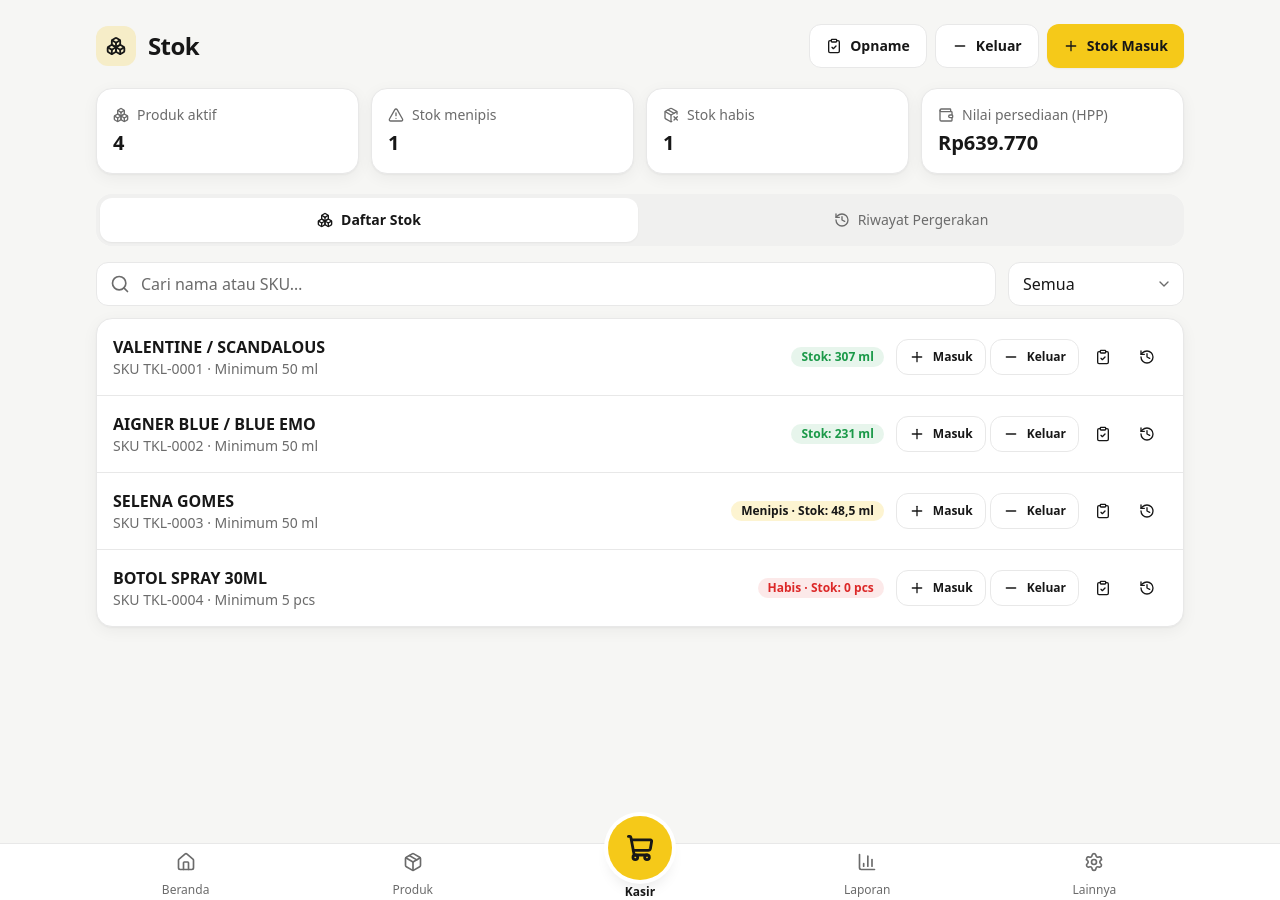
Test: Halaman Stok › stok masuk 100,5 ml: pratinjau 307 → 407,5 ml, tersimpan dengan idempotency key, stok diperbarui
Expected: the tab "Daftar Stok" is shown, x1=100 y1=198 x2=638 y2=242
Click the button with aria-label "Stok masuk VALENTINE / SCANDALOUS".
click(941, 357)  # box x1=896 y1=339 x2=986 y2=375
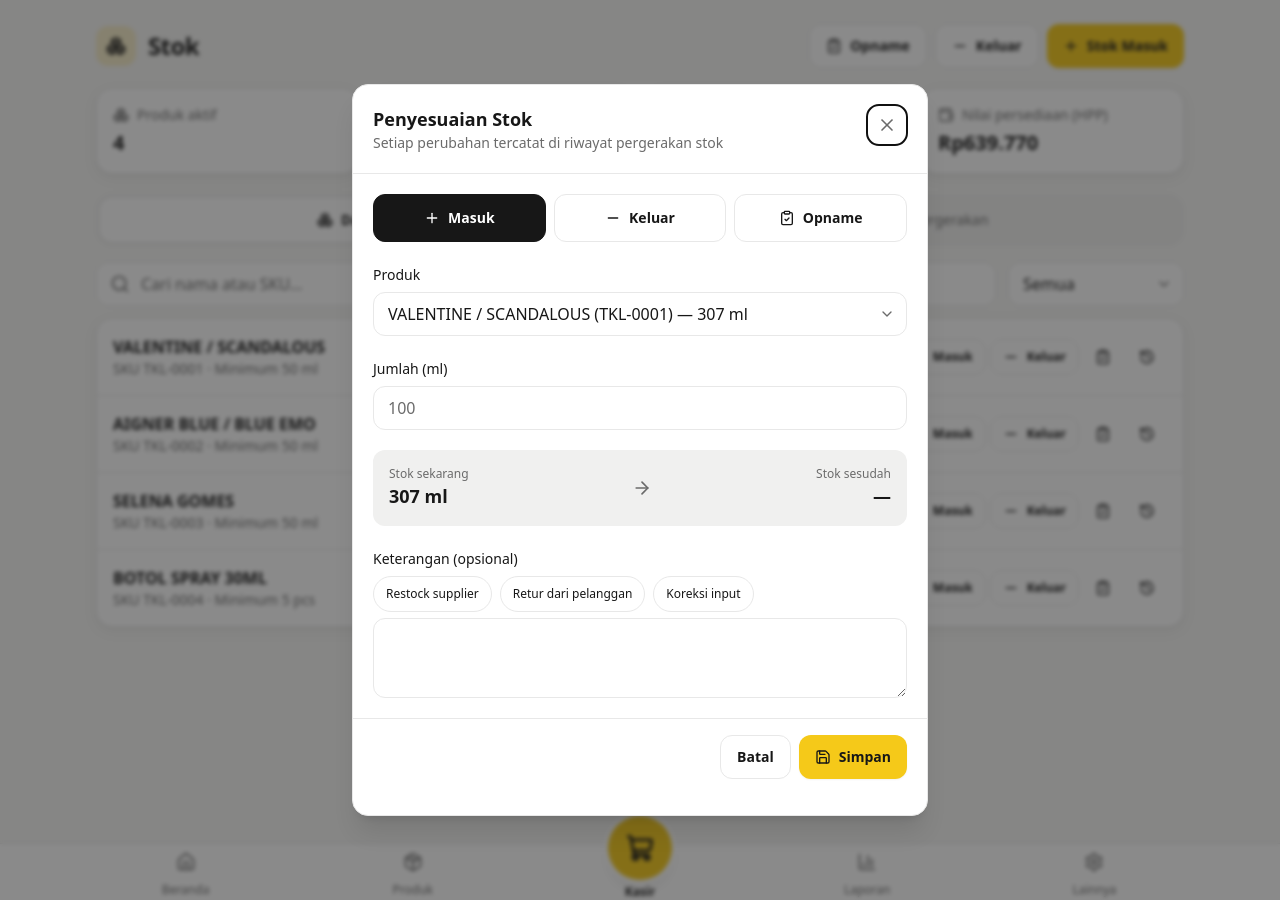
Type "100,5" into the field labelled "Jumlah (ml)".
click(640, 408); type("100,5")  # box x1=373 y1=386 x2=907 y2=430
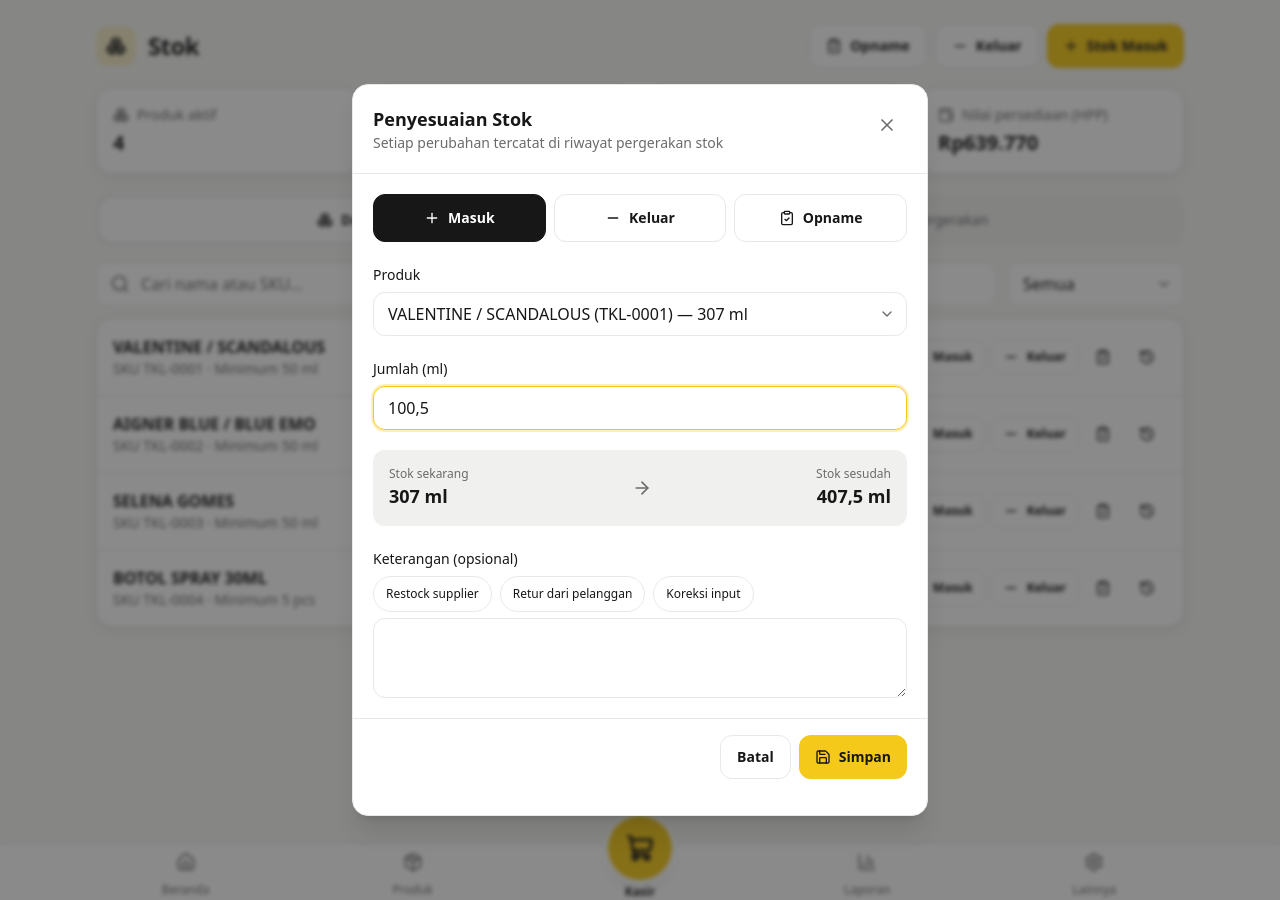
Expected: the text with test id "stock-after" reads "407,5 ml", x1=817 y1=484 x2=891 y2=508
Click the button "Restock supplier".
click(432, 594)  # box x1=373 y1=576 x2=492 y2=612
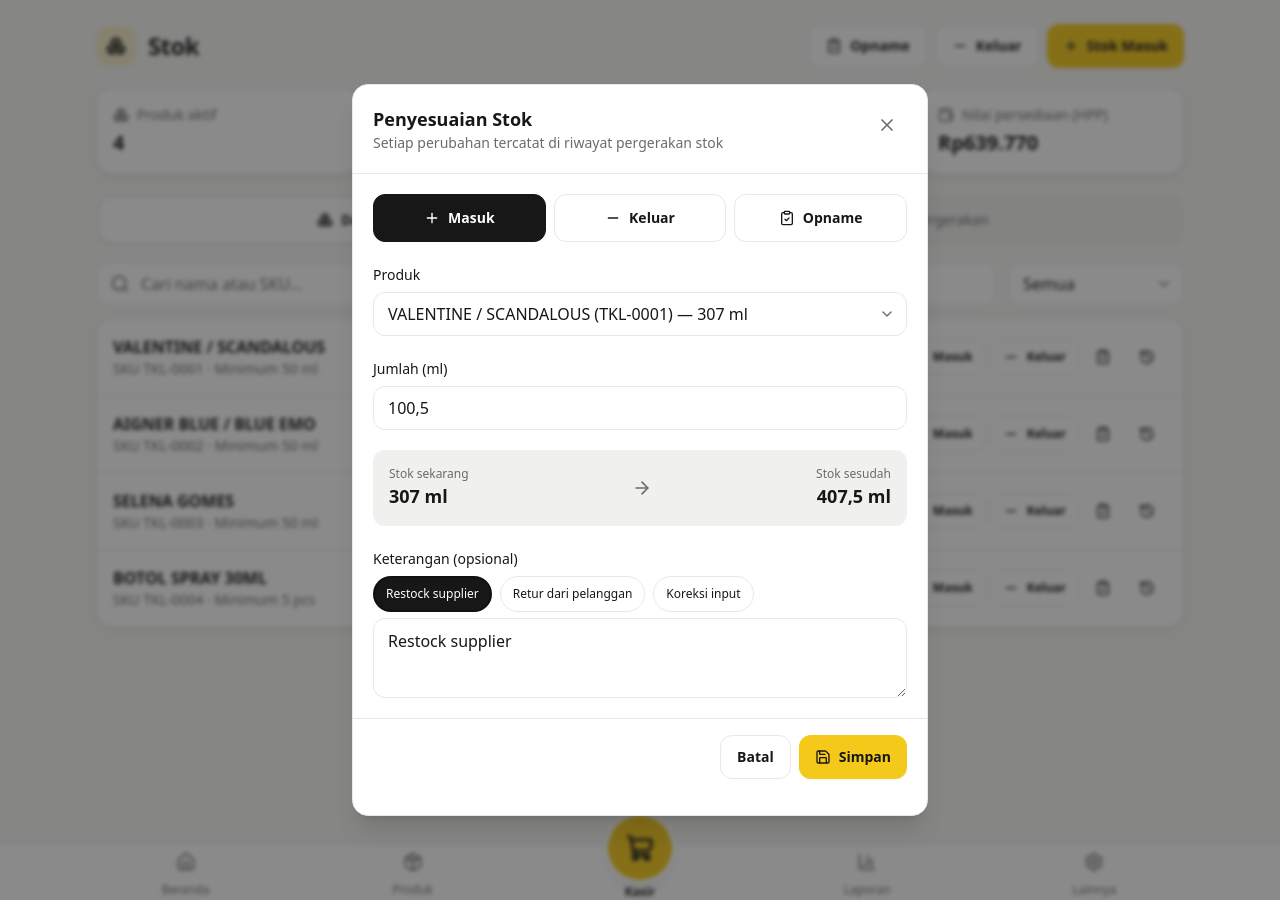
Click the button "Simpan".
click(853, 757)  # box x1=799 y1=735 x2=907 y2=779
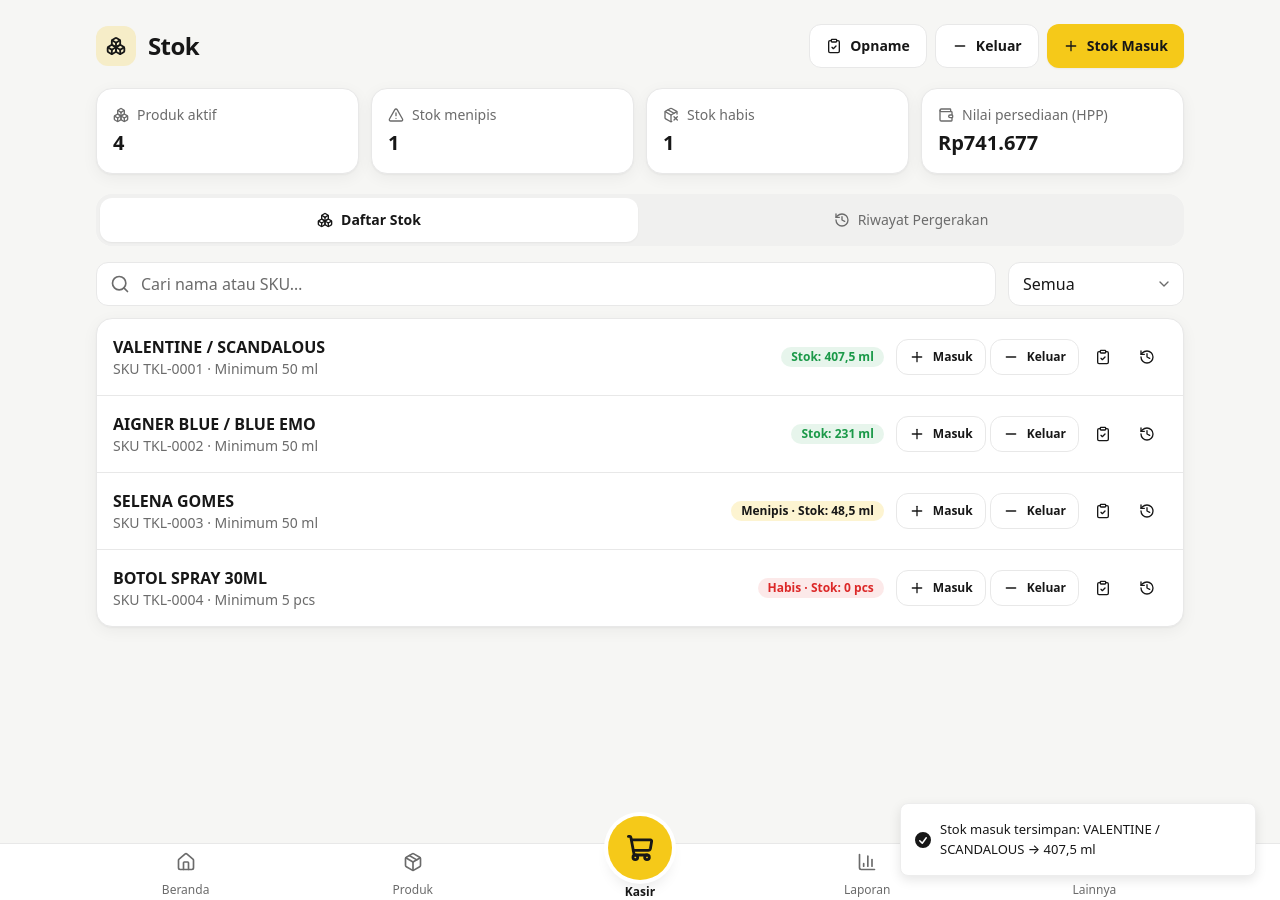
Expected: the dialog is gone
Expected: the text "Stok: 407,5 ml" is shown, x1=781 y1=347 x2=884 y2=367
Expected: the text "Stok masuk tersimpan: VALENTINE / SCANDALOUS → 407,5 ml" is shown, x1=940 y1=820 x2=1160 y2=858
